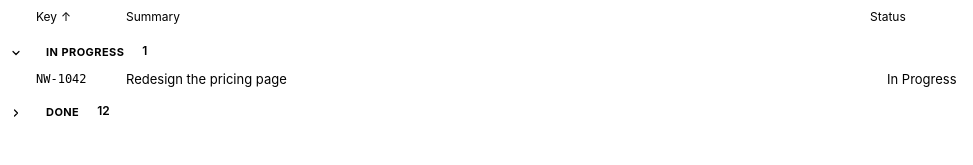
Test case: TableView › groups › shows the rows of a group once it is expanded
Click the button named "Expand Done".
click(16, 113)  # box [4, 101, 28, 125]
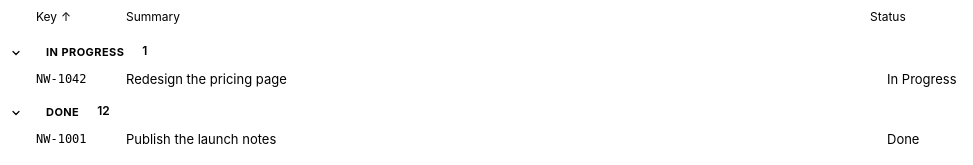
Expected: the text "Publish the launch notes" is shown, [126, 130, 276, 148]
